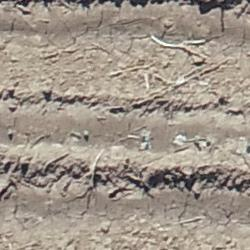cotton: (144, 135, 149, 142), (83, 130, 88, 134)
